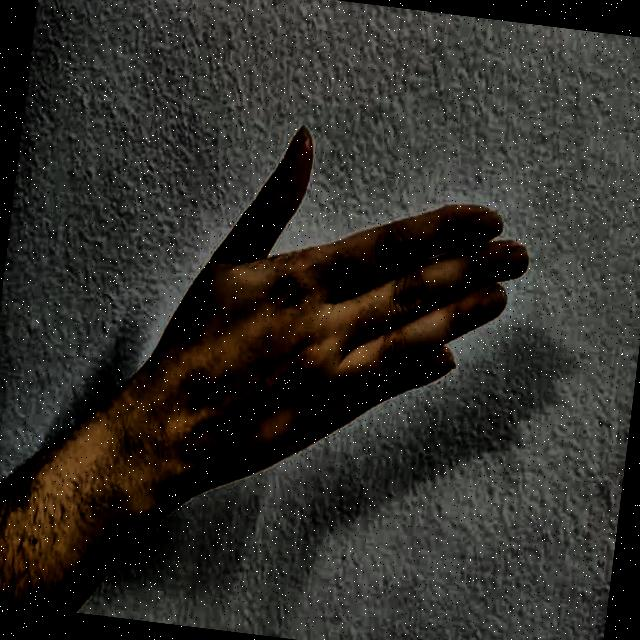Aa: (127, 90, 562, 554)
